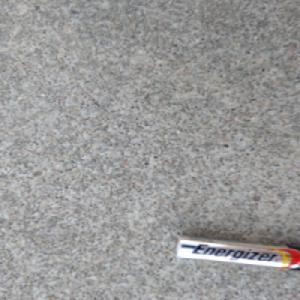Battery: (171, 232, 300, 272)
